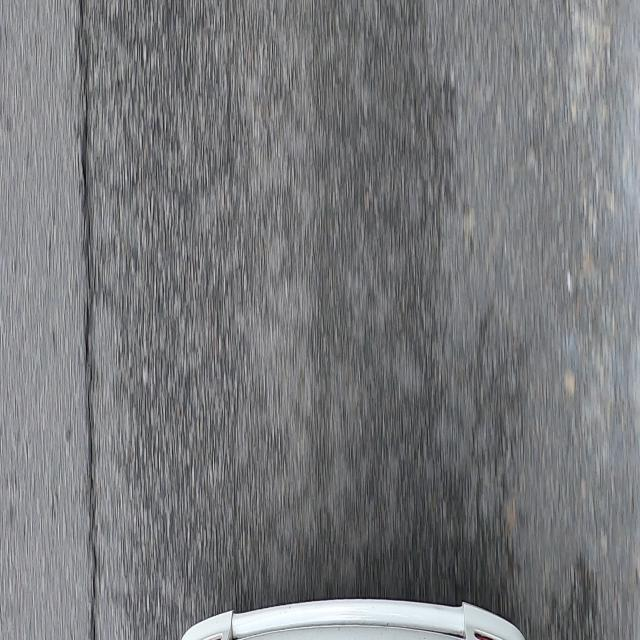Retak-Memanjang: (74, 0, 99, 640)
